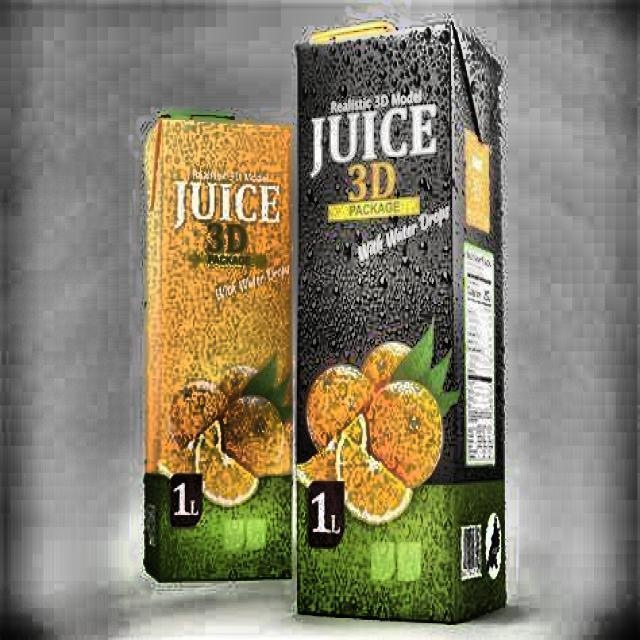cardboard: (293, 19, 507, 624), (142, 110, 293, 582)
